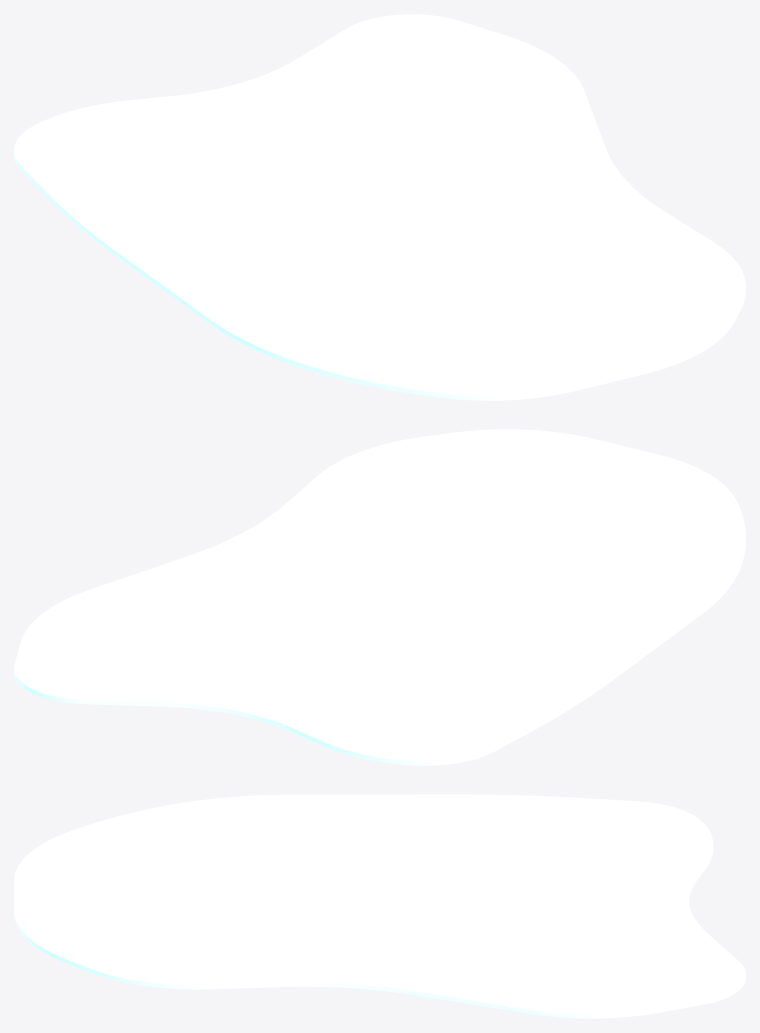
The model's file is lake2.glb.
The picture shows the model from 3 angles, top to bottom: view 1: azimuth 30°, elevation 25°; view 2: azimuth 150°, elevation 25°; view 3: azimuth 270°, elevation 25°; orthographic projection. The views are drawn at different scales.
Visible parts, largest first — view 1: Rectangle; view 2: Rectangle; view 3: Rectangle.
Part boxes in pixels (left/top/right/bottom): Rectangle: left=14, top=14, right=745, bottom=400; Rectangle: left=14, top=429, right=745, bottom=765; Rectangle: left=14, top=794, right=745, bottom=1018.
Size of the model in its own units: 14.65 by 0.12 by 20.57.
